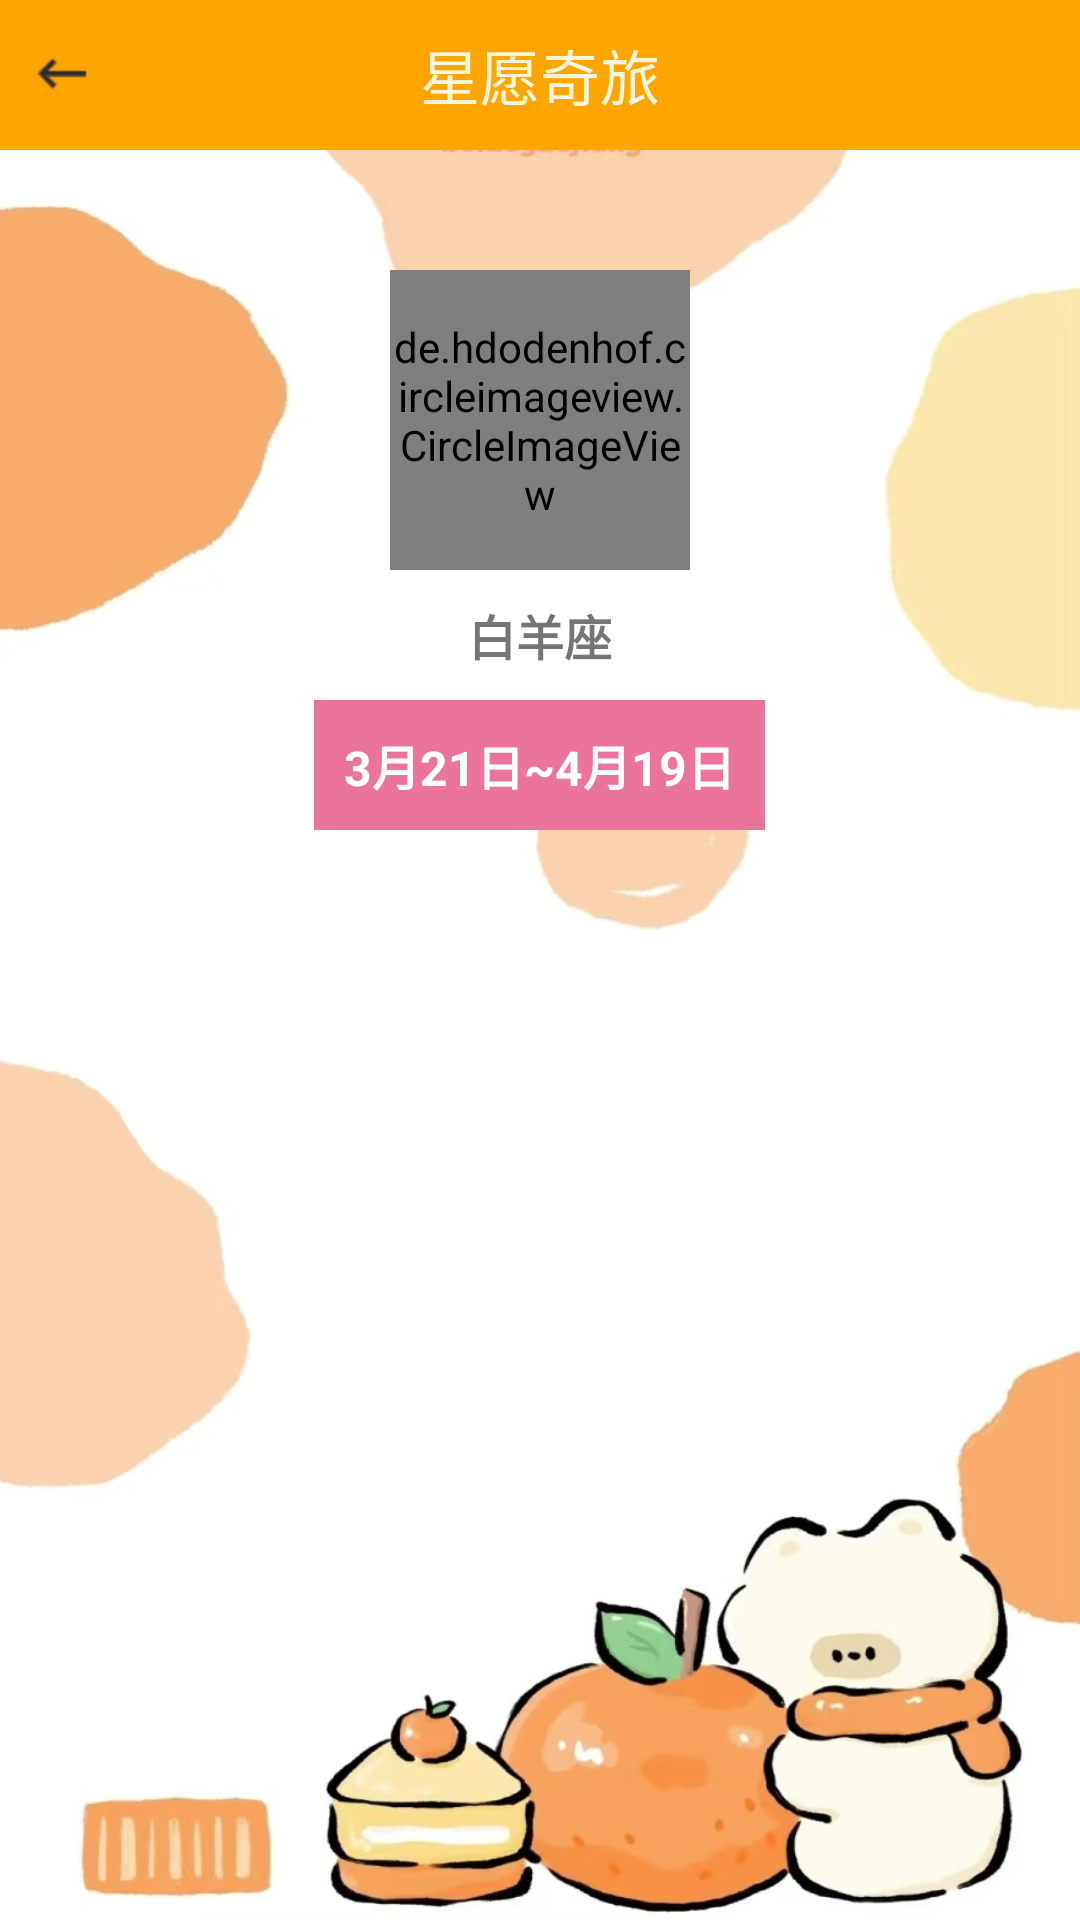

Screen size 1080×1920. Icon name, then its box in pixels as bbox=(x1, y1, x2, y2):
leftback: bbox=(37, 58, 87, 89)
